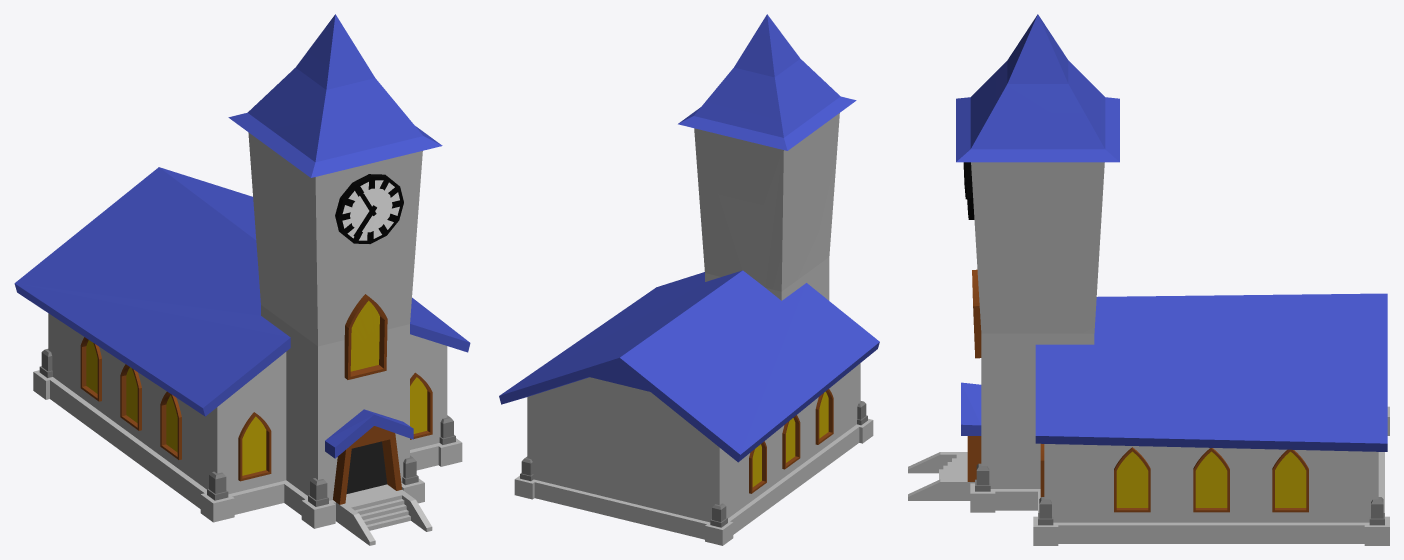
The model's file is Building_Human_Town_Hall_Blue_01.fbx.
The picture shows the model from 3 angles, left to right: view 1: azimuth 30°, elevation 25°; view 2: azimuth 150°, elevation 25°; view 3: azimuth 270°, elevation 25°; orthographic projection. The views are drawn at different scales.
Visible parts, largest first — view 1: Building_Human_Town_Hall_Blue_01; view 2: Building_Human_Town_Hall_Blue_01; view 3: Building_Human_Town_Hall_Blue_01.
Part boxes in pixels (x1,y1,x2,y2): Building_Human_Town_Hall_Blue_01: (14,14,470,545); Building_Human_Town_Hall_Blue_01: (499,14,879,545); Building_Human_Town_Hall_Blue_01: (908,14,1389,545).
Bounding box in the file's own units: 11372 × 17913 × 16576.
